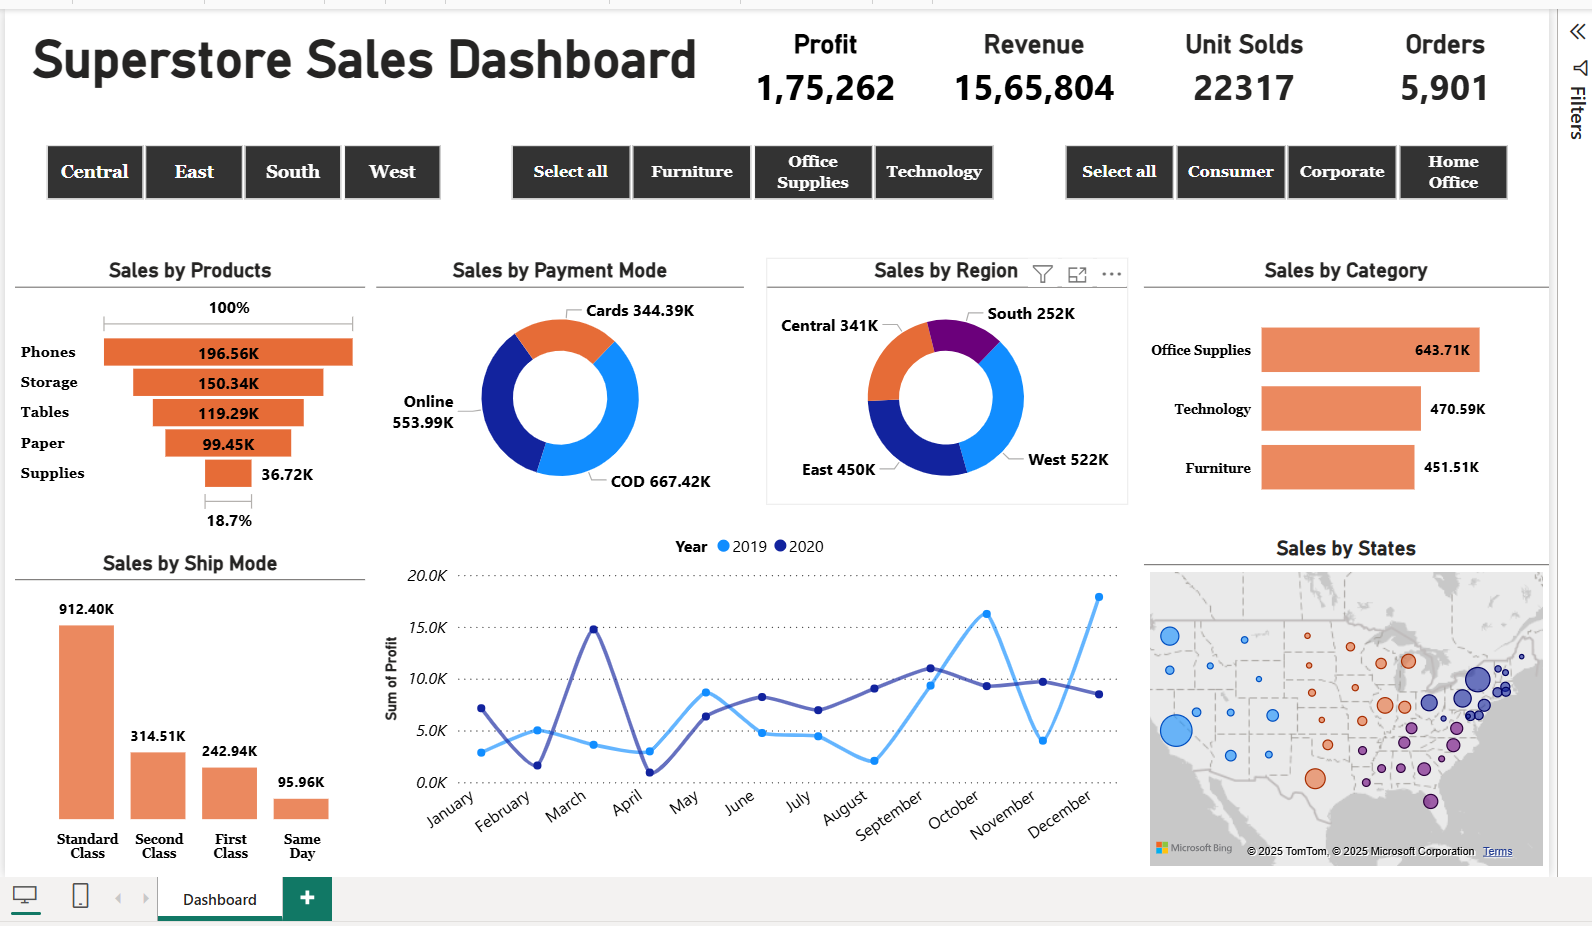

What the dashboard file says about the page in this screenshot:
{"tool":"powerbi","page":{"name":"Dashboard","canvas":[1280,720],"ordinal":0},"visuals":[{"type":"textbox","title":"Superstore Sales Dashboard","box":[0,16.9,596.7,57],"z":0},{"type":"barChart","title":"Sales by Category","fields":{"Category":["Sheet1.Category"],"Y":["Sum(Sheet1.Sales)"]},"box":[944,206.2,335.8,218.7],"z":1000},{"type":"funnel","title":"Sales by Products","fields":{"Category":["Sheet1.Sub-Category"],"Y":["Sum(Sheet1.Sales)"]},"box":[8.4,206.5,290.6,230.5],"z":2000},{"type":"card","title":"Revenue","fields":{"Values":["Sum(Sheet1.Sales)"]},"box":[763.7,16.8,178.9,72],"z":3000},{"type":"card","title":"Unit Solds","fields":{"Values":["Sum(Sheet1.Quantity)"]},"box":[943.8,16.8,166.9,72],"z":4000},{"type":"card","title":"Profit","fields":{"Values":["Sum(Sheet1.Profit)"]},"box":[596.8,16.8,166.9,72],"z":5000},{"type":"columnChart","title":"Sales by Ship Mode","fields":{"Category":["Sheet1.Ship Mode"],"Y":["Sum(Sheet1.Sales)"]},"box":[8.4,449.1,290.6,265.4],"z":6000},{"type":"areaChart","fields":{"Y":["Sum(Sheet1.Profit)"],"Series":["Sheet1.Order Date.Variation.Date Hierarchy.Year"],"Category":["Sheet1.Order Date.Variation.Date Hierarchy.Month"]},"box":[308.6,425.1,622,289.4],"z":7000},{"type":"donutChart","title":"Sales by Payment Mode","fields":{"Category":["Sheet1.Payment Mode"],"Y":["Sum(Sheet1.Sales)"]},"box":[308.1,205.8,304.7,205.8],"z":8000},{"type":"donutChart","title":"Sales by Region","fields":{"Y":["Sum(Sheet1.Sales)"],"Category":["Sheet1.Region"]},"box":[631.4,205.8,298.8,205.8],"z":9000},{"type":"slicer","fields":{"Values":["Sheet1.Region"]},"box":[8.4,105.7,377,58.8],"z":10000},{"type":"map","title":"Sales by States","fields":{"Category":["Sheet1.State"],"Size":["Sum(Sheet1.Sales)"],"Series":["Sheet1.Region"]},"box":[944,436.3,335.8,277.7],"z":11000},{"type":"slicer","fields":{"Values":["Sheet1.Category"]},"box":[393.9,105.6,449.9,59.1],"z":12000},{"type":"card","title":"Orders","fields":{"Values":["CountNonNull(Sheet1.Order ID)"]},"box":[1111.9,16.8,164.5,72],"z":13000},{"type":"slicer","fields":{"Values":["Sheet1.Segment"]},"box":[853.3,105.6,417.2,59.1],"z":14000}]}

Visuals, with their boxes in screenshot pixels (x1, y1, x2, y2):
"Superstore Sales Dashboard" textbox: x1=0, y1=0, x2=602, y2=34
"Sales by Category" barChart: x1=1013, y1=190, x2=1410, y2=449
"Sales by Products" funnel: x1=0, y1=190, x2=250, y2=463
"Revenue" card: x1=800, y1=0, x2=1012, y2=51
"Unit Solds" card: x1=1013, y1=0, x2=1210, y2=51
"Profit" card: x1=602, y1=0, x2=800, y2=51
"Sales by Ship Mode" columnChart: x1=0, y1=477, x2=250, y2=791
areaChart - Sum(Sheet1.Profit) x Sheet1.Order Date.Variation.Date Hierarchy.Year: x1=261, y1=449, x2=997, y2=791
"Sales by Payment Mode" donutChart: x1=261, y1=190, x2=621, y2=433
"Sales by Region" donutChart: x1=643, y1=190, x2=997, y2=433
slicer - Sheet1.Region: x1=0, y1=71, x2=352, y2=141
"Sales by States" map: x1=1013, y1=462, x2=1410, y2=791
slicer - Sheet1.Category: x1=362, y1=71, x2=895, y2=141
"Orders" card: x1=1212, y1=0, x2=1406, y2=51
slicer - Sheet1.Segment: x1=906, y1=71, x2=1399, y2=141
